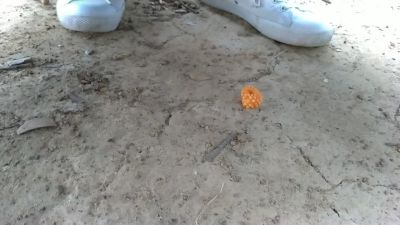eggs: (240, 81, 264, 108)
